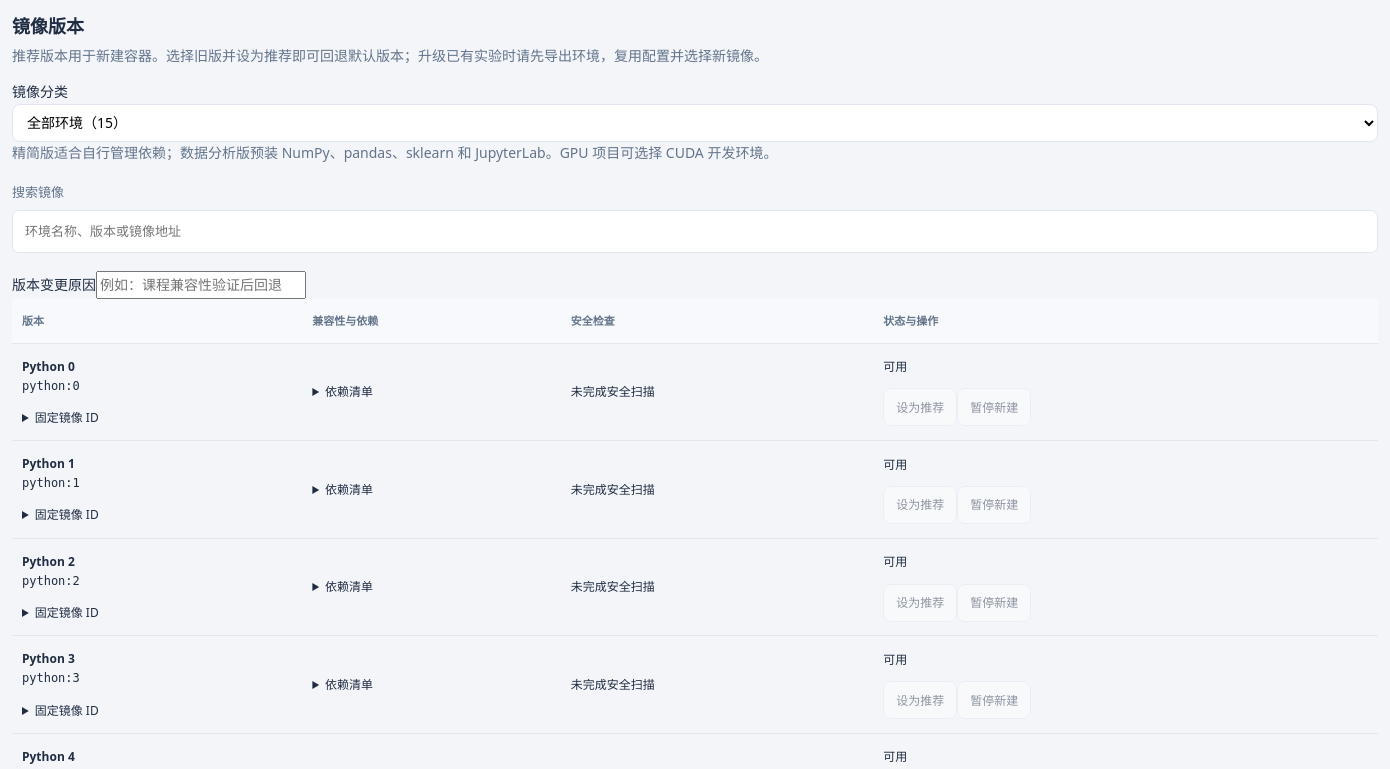
image search finds an environment outside the first page
In the search field labelled "搜索镜像": (695,231) [12, 210, 1378, 253], type "python:14"
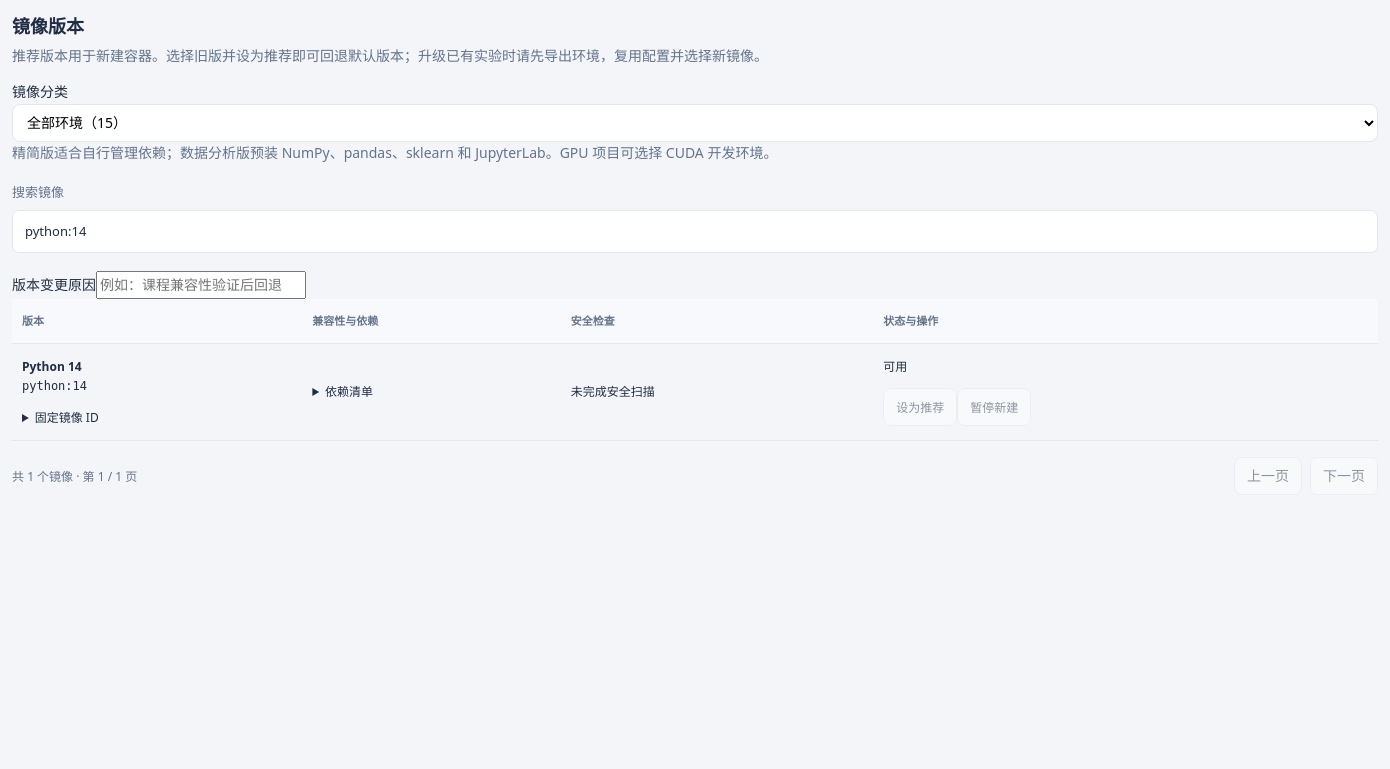
Expected: the text "Python 14" is shown, [22, 358, 82, 374]
Expected: the number of rows is 2, [12, 299, 1378, 343]; [12, 343, 1378, 441]
